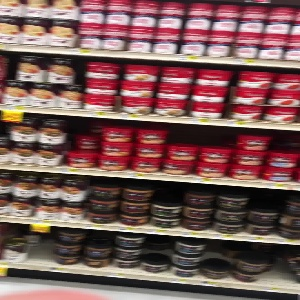void: (23, 221, 52, 269)
